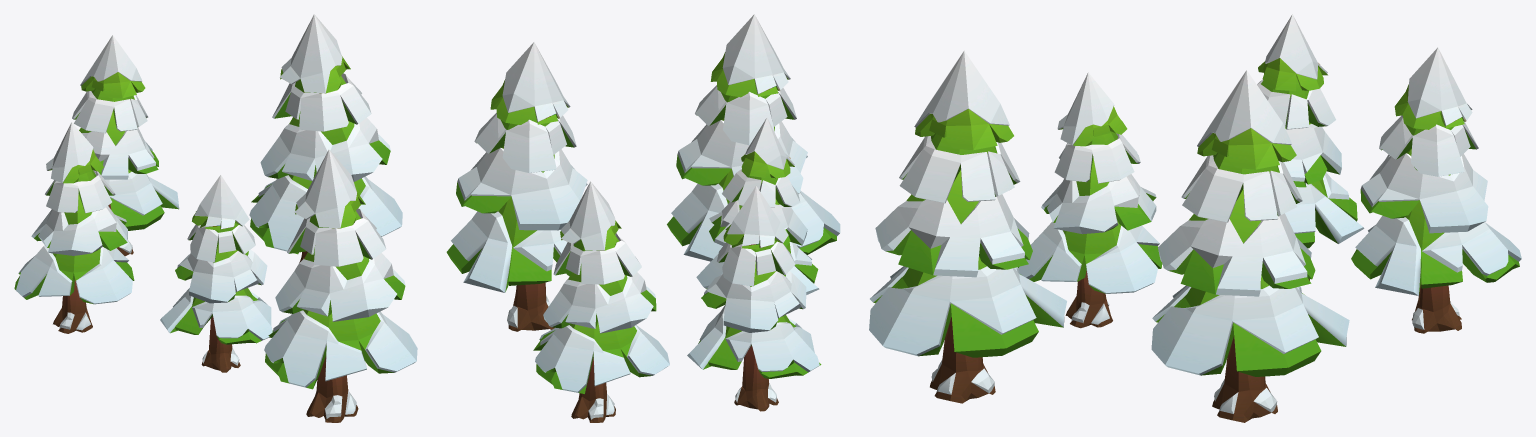
3 views of the same model, side by side, from view 1: azimuth 30°, elevation 25°; view 2: azimuth 150°, elevation 25°; view 3: azimuth 270°, elevation 25° (orthographic). The views are drawn at different scales.
Parts seen in each view (by area): view 1: SnowyTree (9), SnowyTree (6), SnowyTree (10), SnowyTree (8), SnowyTree (7); view 2: SnowyTree (6), SnowyTree (7), SnowyTree (9), SnowyTree (10), SnowyTree (8); view 3: SnowyTree (9), SnowyTree (6), SnowyTree (7), SnowyTree (8), SnowyTree (10).
Boxes of the visible parts, box(x1,y1,x2,y2) form: SnowyTree (9): box(264, 149, 417, 422); SnowyTree (6): box(249, 14, 402, 262); SnowyTree (10): box(14, 122, 134, 333); SnowyTree (8): box(160, 175, 272, 372); SnowyTree (7): box(56, 35, 179, 256); SnowyTree (6): box(446, 42, 587, 331); SnowyTree (7): box(533, 181, 669, 422); SnowyTree (9): box(667, 14, 840, 261); SnowyTree (10): box(687, 186, 821, 411); SnowyTree (8): box(696, 117, 819, 294); SnowyTree (9): box(869, 51, 1066, 403); SnowyTree (6): box(1151, 70, 1349, 422); SnowyTree (7): box(1351, 47, 1521, 333); SnowyTree (8): box(1018, 72, 1162, 328); SnowyTree (10): box(1257, 14, 1364, 280).
Size of the model in its own units: 622 by 500 by 782.
Materials: 1 (1 with a texture image).
